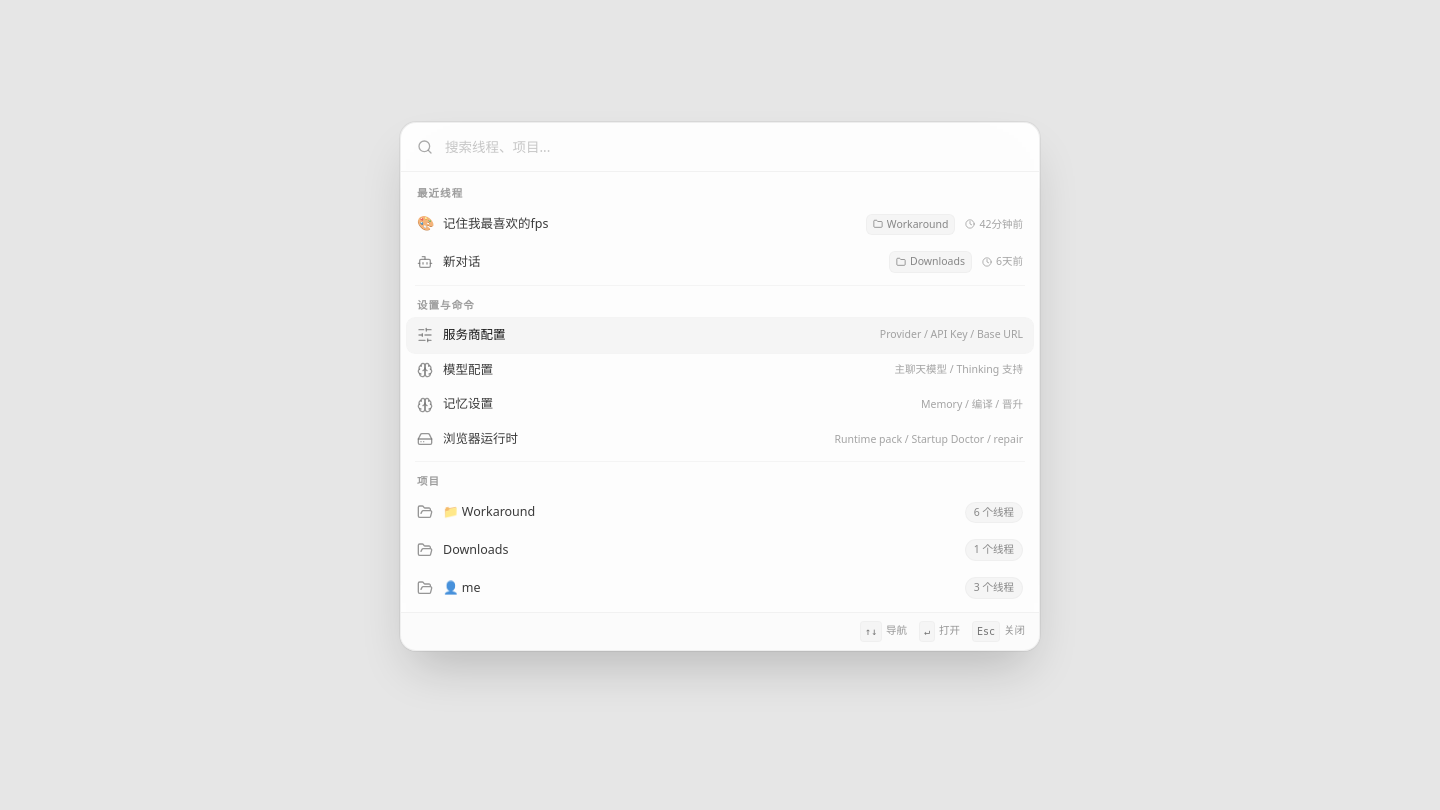
it: SearchPalette › queries the FTS backend and renders the search-hits section
Type "gomoku" into the dropdown with placeholder "搜索线程、项目..." at (734, 147), box [445,136,1023,157]
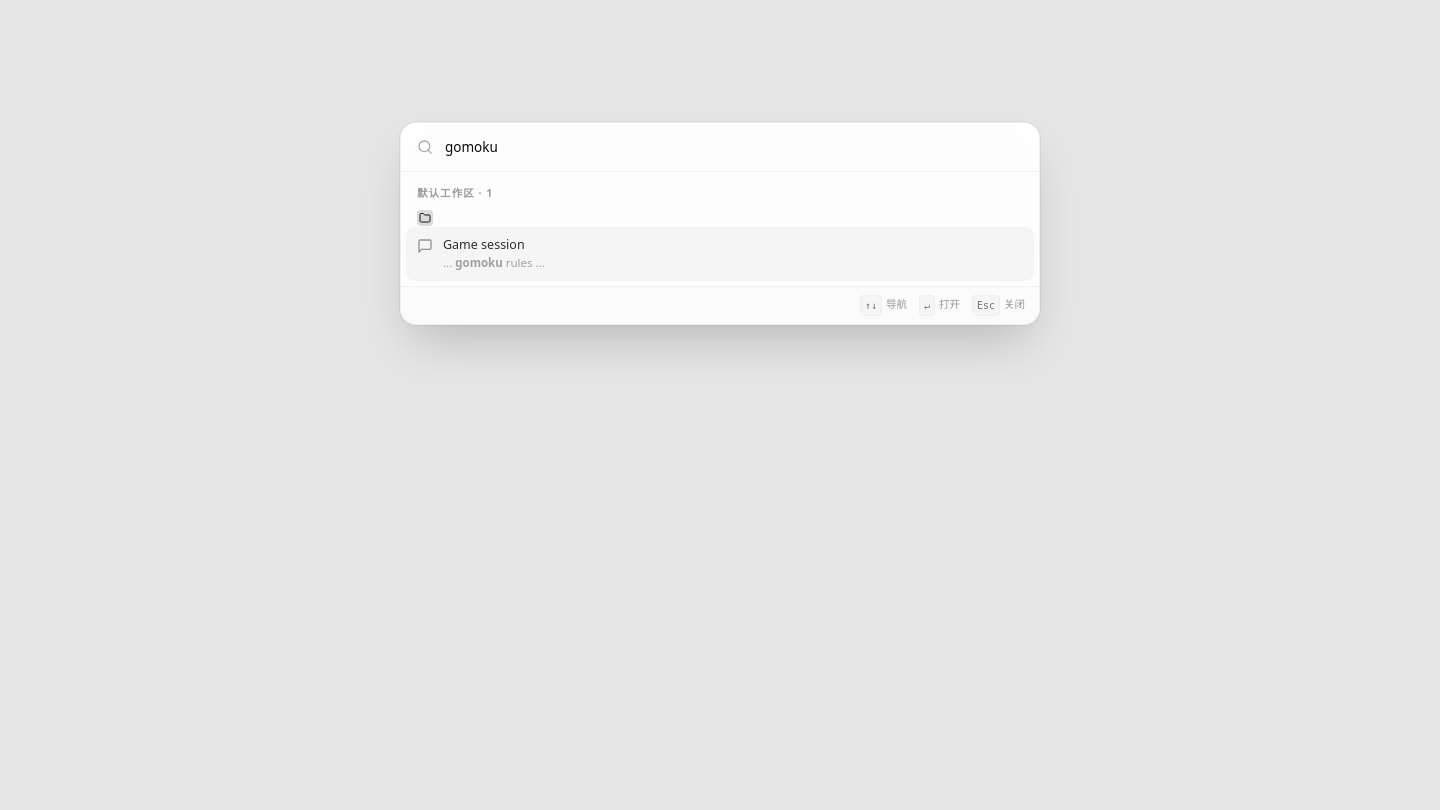
Expected: the text "默认工作区 · 1" is shown, [417,186,493,200]
Expected: the text "Game session" is shown, [443,236,525,252]
